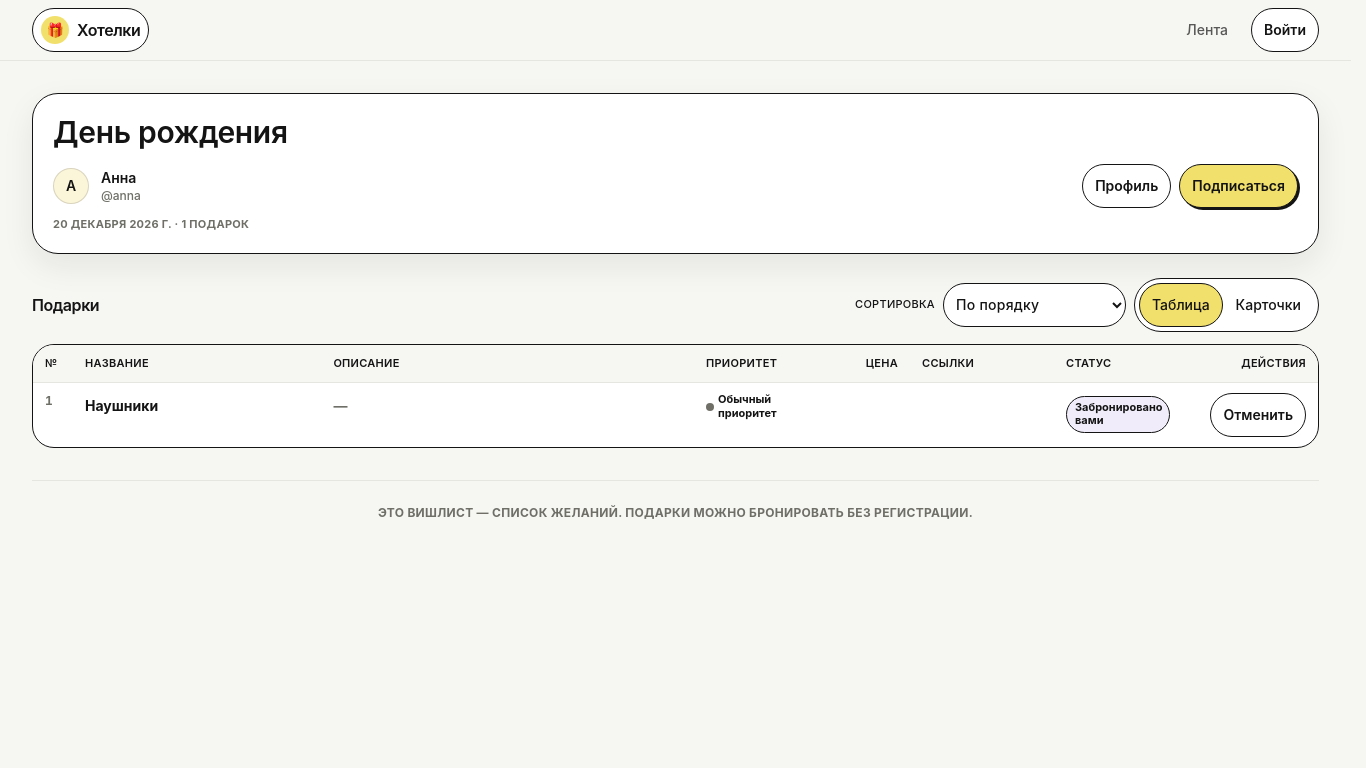
Test: публичная страница вишлиста › после отмены удаляет запись и снова предлагает «Забронировать»
Expected: the text "Забронировано вами" is shown, [1066,396,1170,433]
Click the button with aria-label "Отменить бронирование" at (1258, 415), box [1210,393,1306,437]
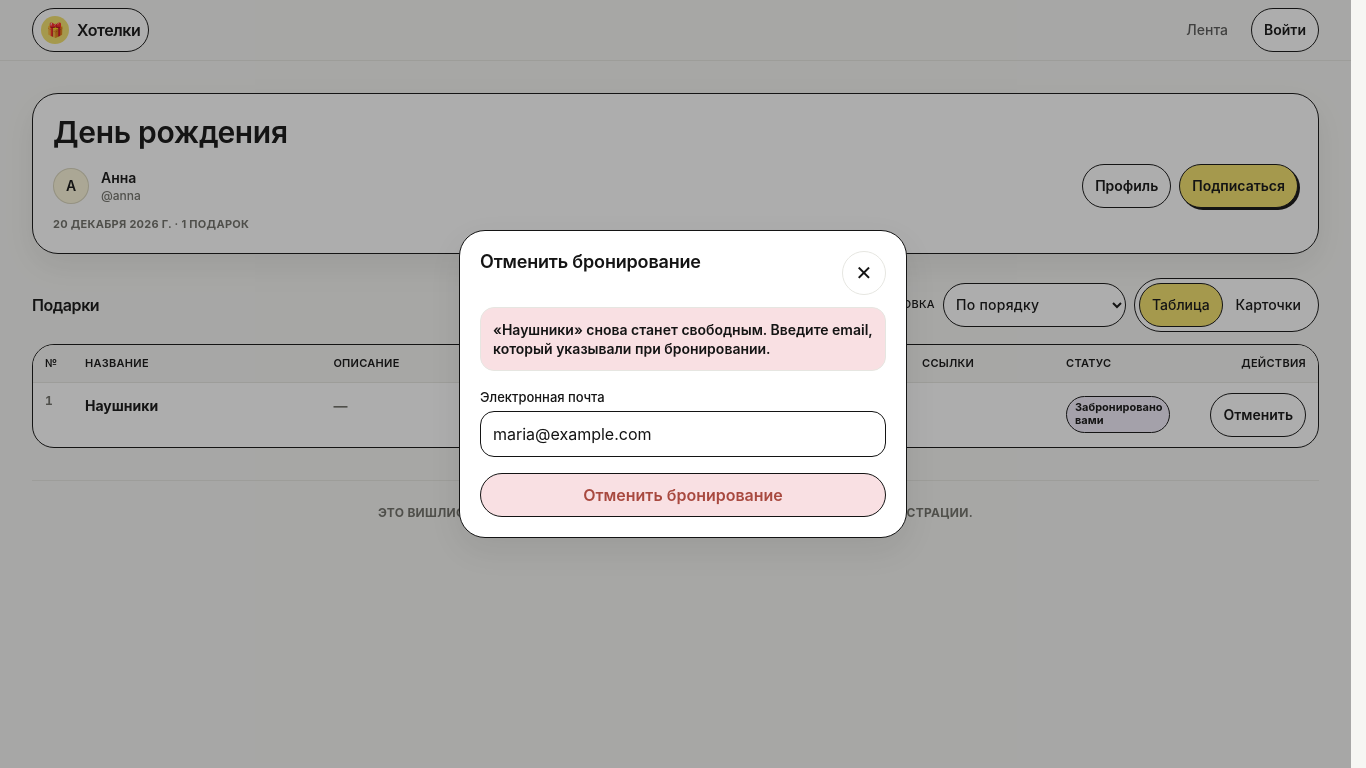
Expected: the field labelled "Электронная почта" holds "maria@example.com"
Note: …и поле остаётся редактируемым.
Replace the text in the field labelled "Электронная почта" with "other@example.com" at (683, 434), box [480,411,886,457]
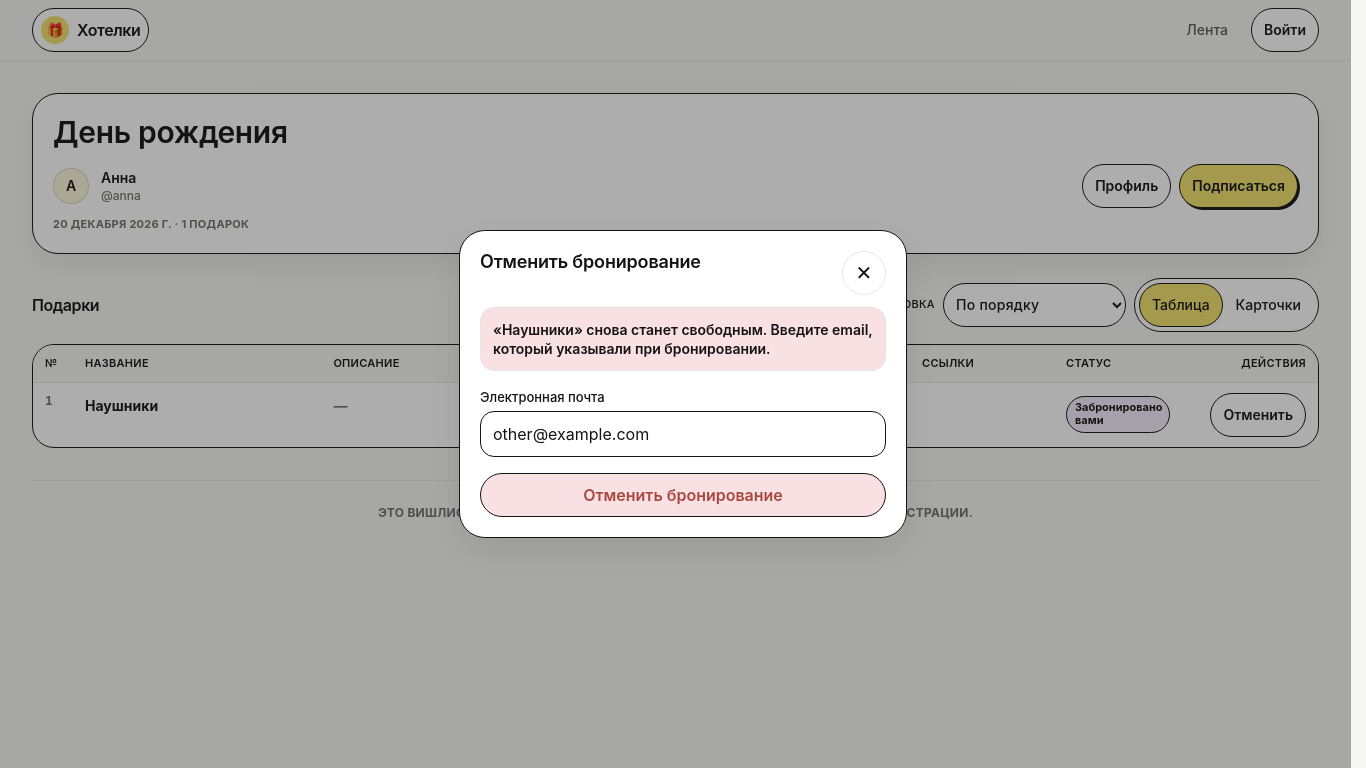
Click the button "Отменить бронирование" at (683, 495), box [480,473,886,517]
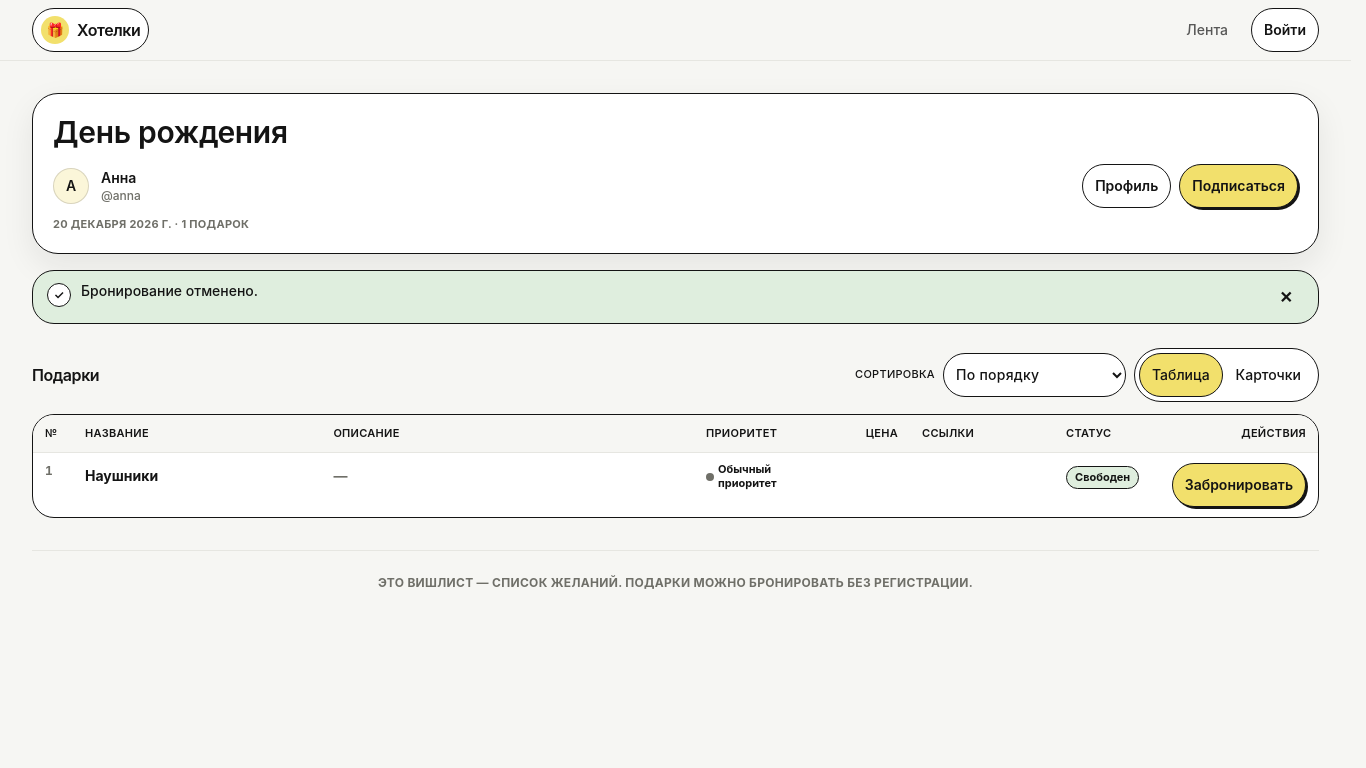
Expected: the text "Бронирование отменено." is shown, [81,282,258,298]
Expected: the button "Забронировать" is shown, [1172,463,1306,507]
